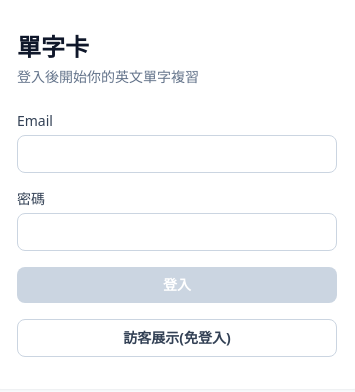
帳密錯誤 → 中文錯誤訊息、按鈕恢復可用、密碼不被清掉
Type "user@example.com" into the field labelled "Email" at (177, 154), box 17,135 -> 337,173
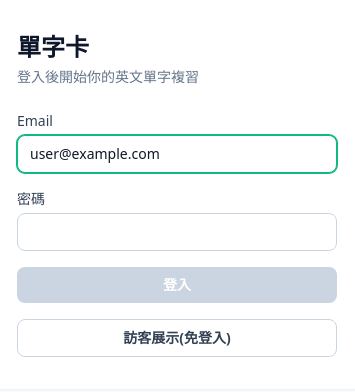
Type "secret123" into the password field labelled "密碼" at (177, 232), box 17,213 -> 337,251
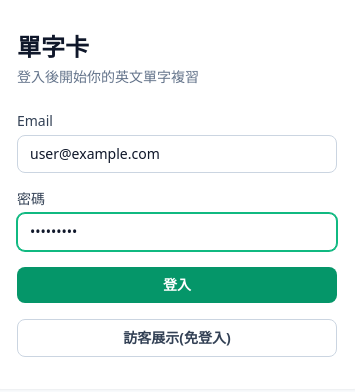
Click the button "登入" at (177, 285), box 17,267 -> 337,303
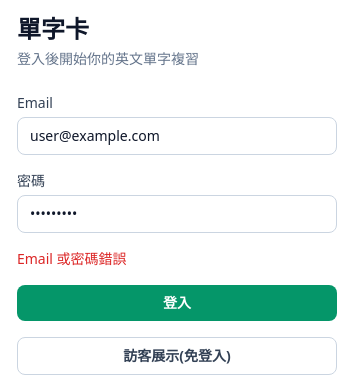
Check: the button "登入" is enabled, box 17,285 -> 337,321
Check: the text "Email 或密碼錯誤" is shown, box 17,249 -> 127,268
